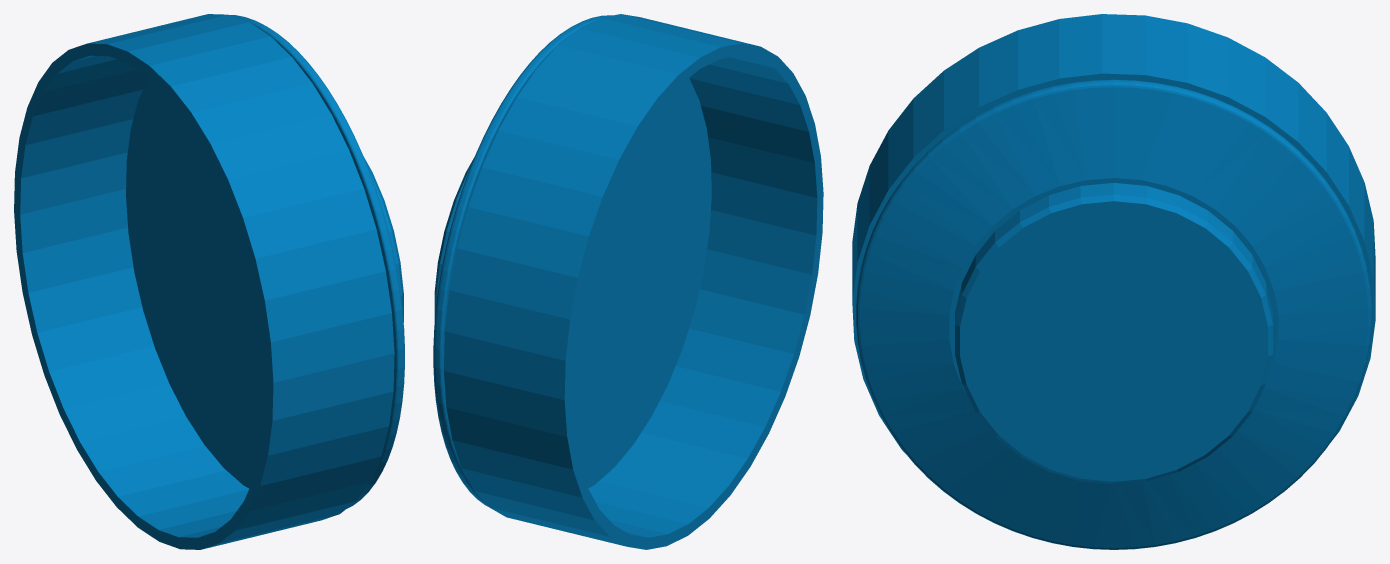
File: wrist_roll_link.glb
3 renders of one model, left to right at view 1: azimuth 30°, elevation 25°; view 2: azimuth 150°, elevation 25°; view 3: azimuth 270°, elevation 25°, orthographic.
Visible parts, largest first — view 1: world; view 2: world; view 3: world.
Part boxes in pixels (x1,y1,x2,y2): world: (14,14,404,549); world: (433,14,823,549); world: (852,14,1375,549).
Bounding box in the file's own units: 0.0425 × 0.1039 × 0.1039.
Materials: 1 (1 with a texture image).
